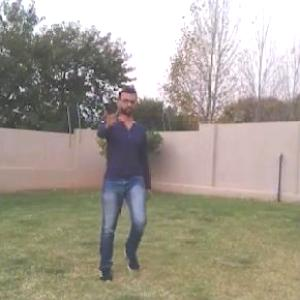takeoff-hand: (96, 99, 124, 132)
